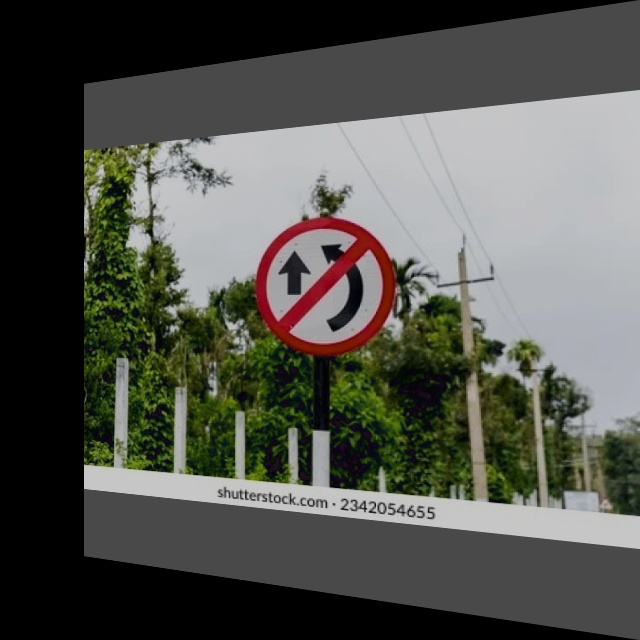Overtaking_Prohibited: (256, 218, 397, 360)
